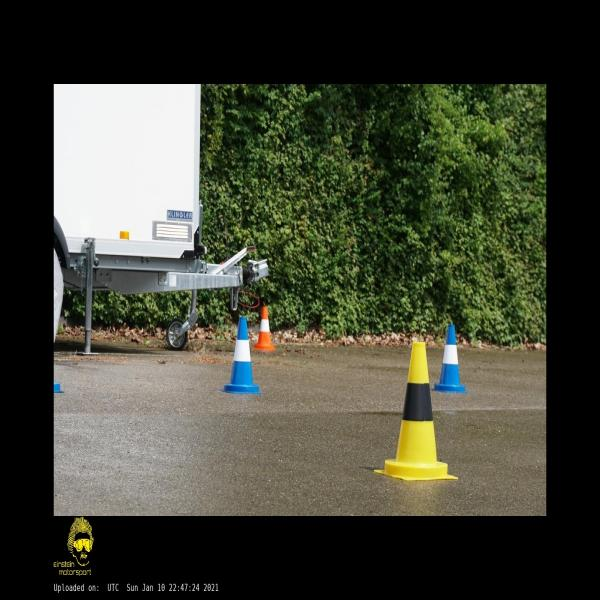blue_cone: (219, 318, 264, 394), (430, 325, 471, 392)
orange_cone: (254, 306, 276, 350)
yellow_cone: (374, 341, 458, 480)
